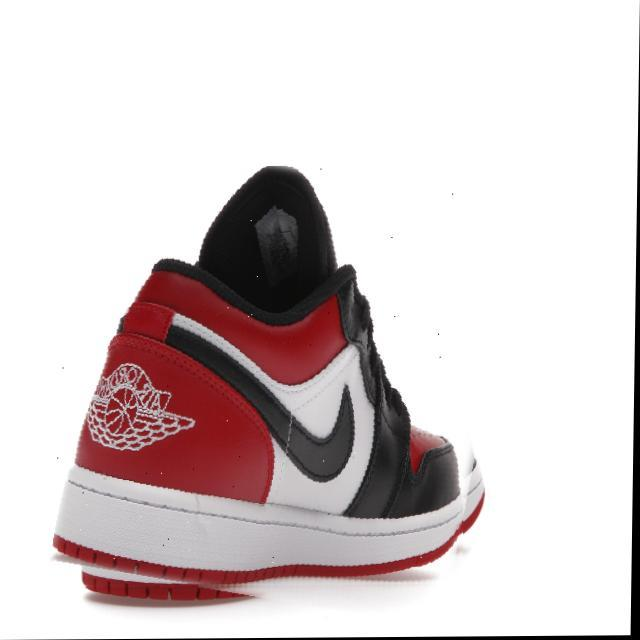J1_InsoleChar: (50, 163, 487, 605)
J1_ShoeLogo: (84, 360, 195, 452)
J1_StitchPattern: (51, 464, 482, 576), (160, 307, 359, 482), (51, 533, 255, 603), (337, 268, 403, 430), (271, 381, 359, 481), (78, 568, 255, 603), (250, 203, 302, 284)
